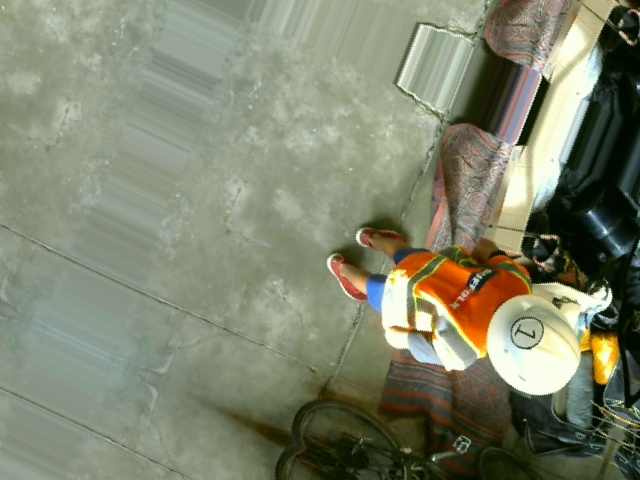one: (505, 309, 548, 355)
